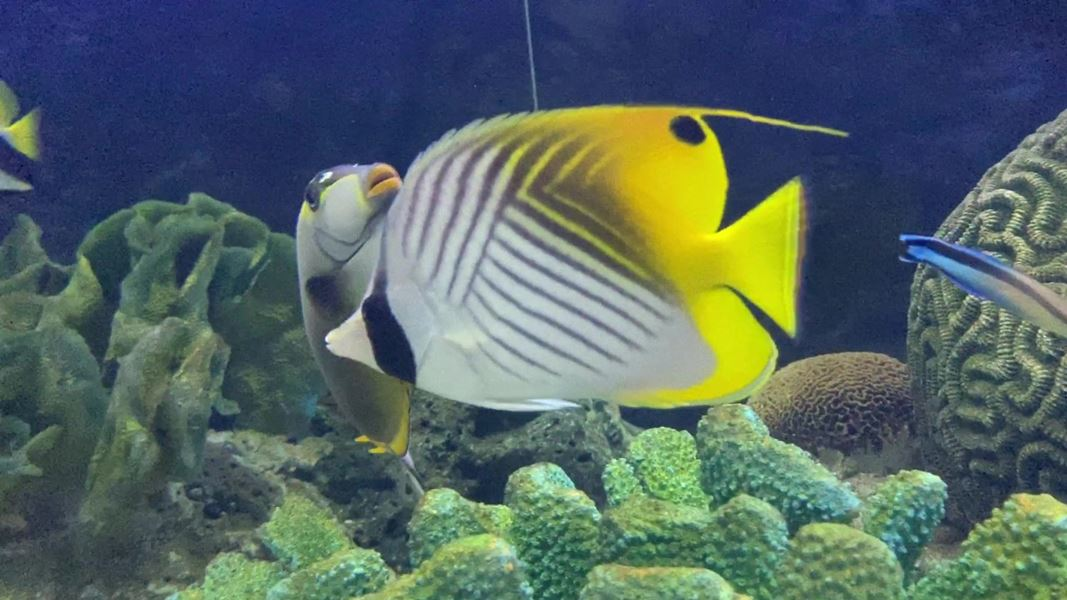Bluesteak cleaner wrasse: (885, 225, 1067, 348)
